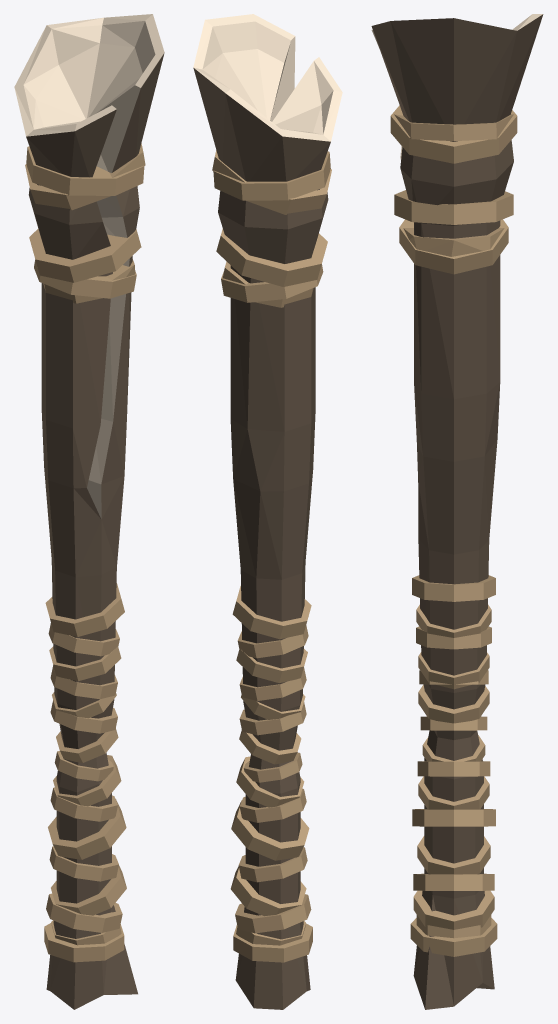
File: _hammer_14.fbx
The picture shows the model from 3 angles, left to right: view 1: azimuth 30°, elevation 25°; view 2: azimuth 150°, elevation 25°; view 3: azimuth 270°, elevation 25°; orthographic projection. The views are drawn at different scales.
Visible parts, largest first — view 1: hammer_14; view 2: hammer_14; view 3: hammer_14.
Part boxes in pixels (box(x1,y1,x2,y2)): hammer_14: box(14, 14, 164, 1009); hammer_14: box(193, 14, 342, 1009); hammer_14: box(371, 14, 543, 1009).
Bounding box in the file's own units: 11.44 × 83.05 × 12.87.
